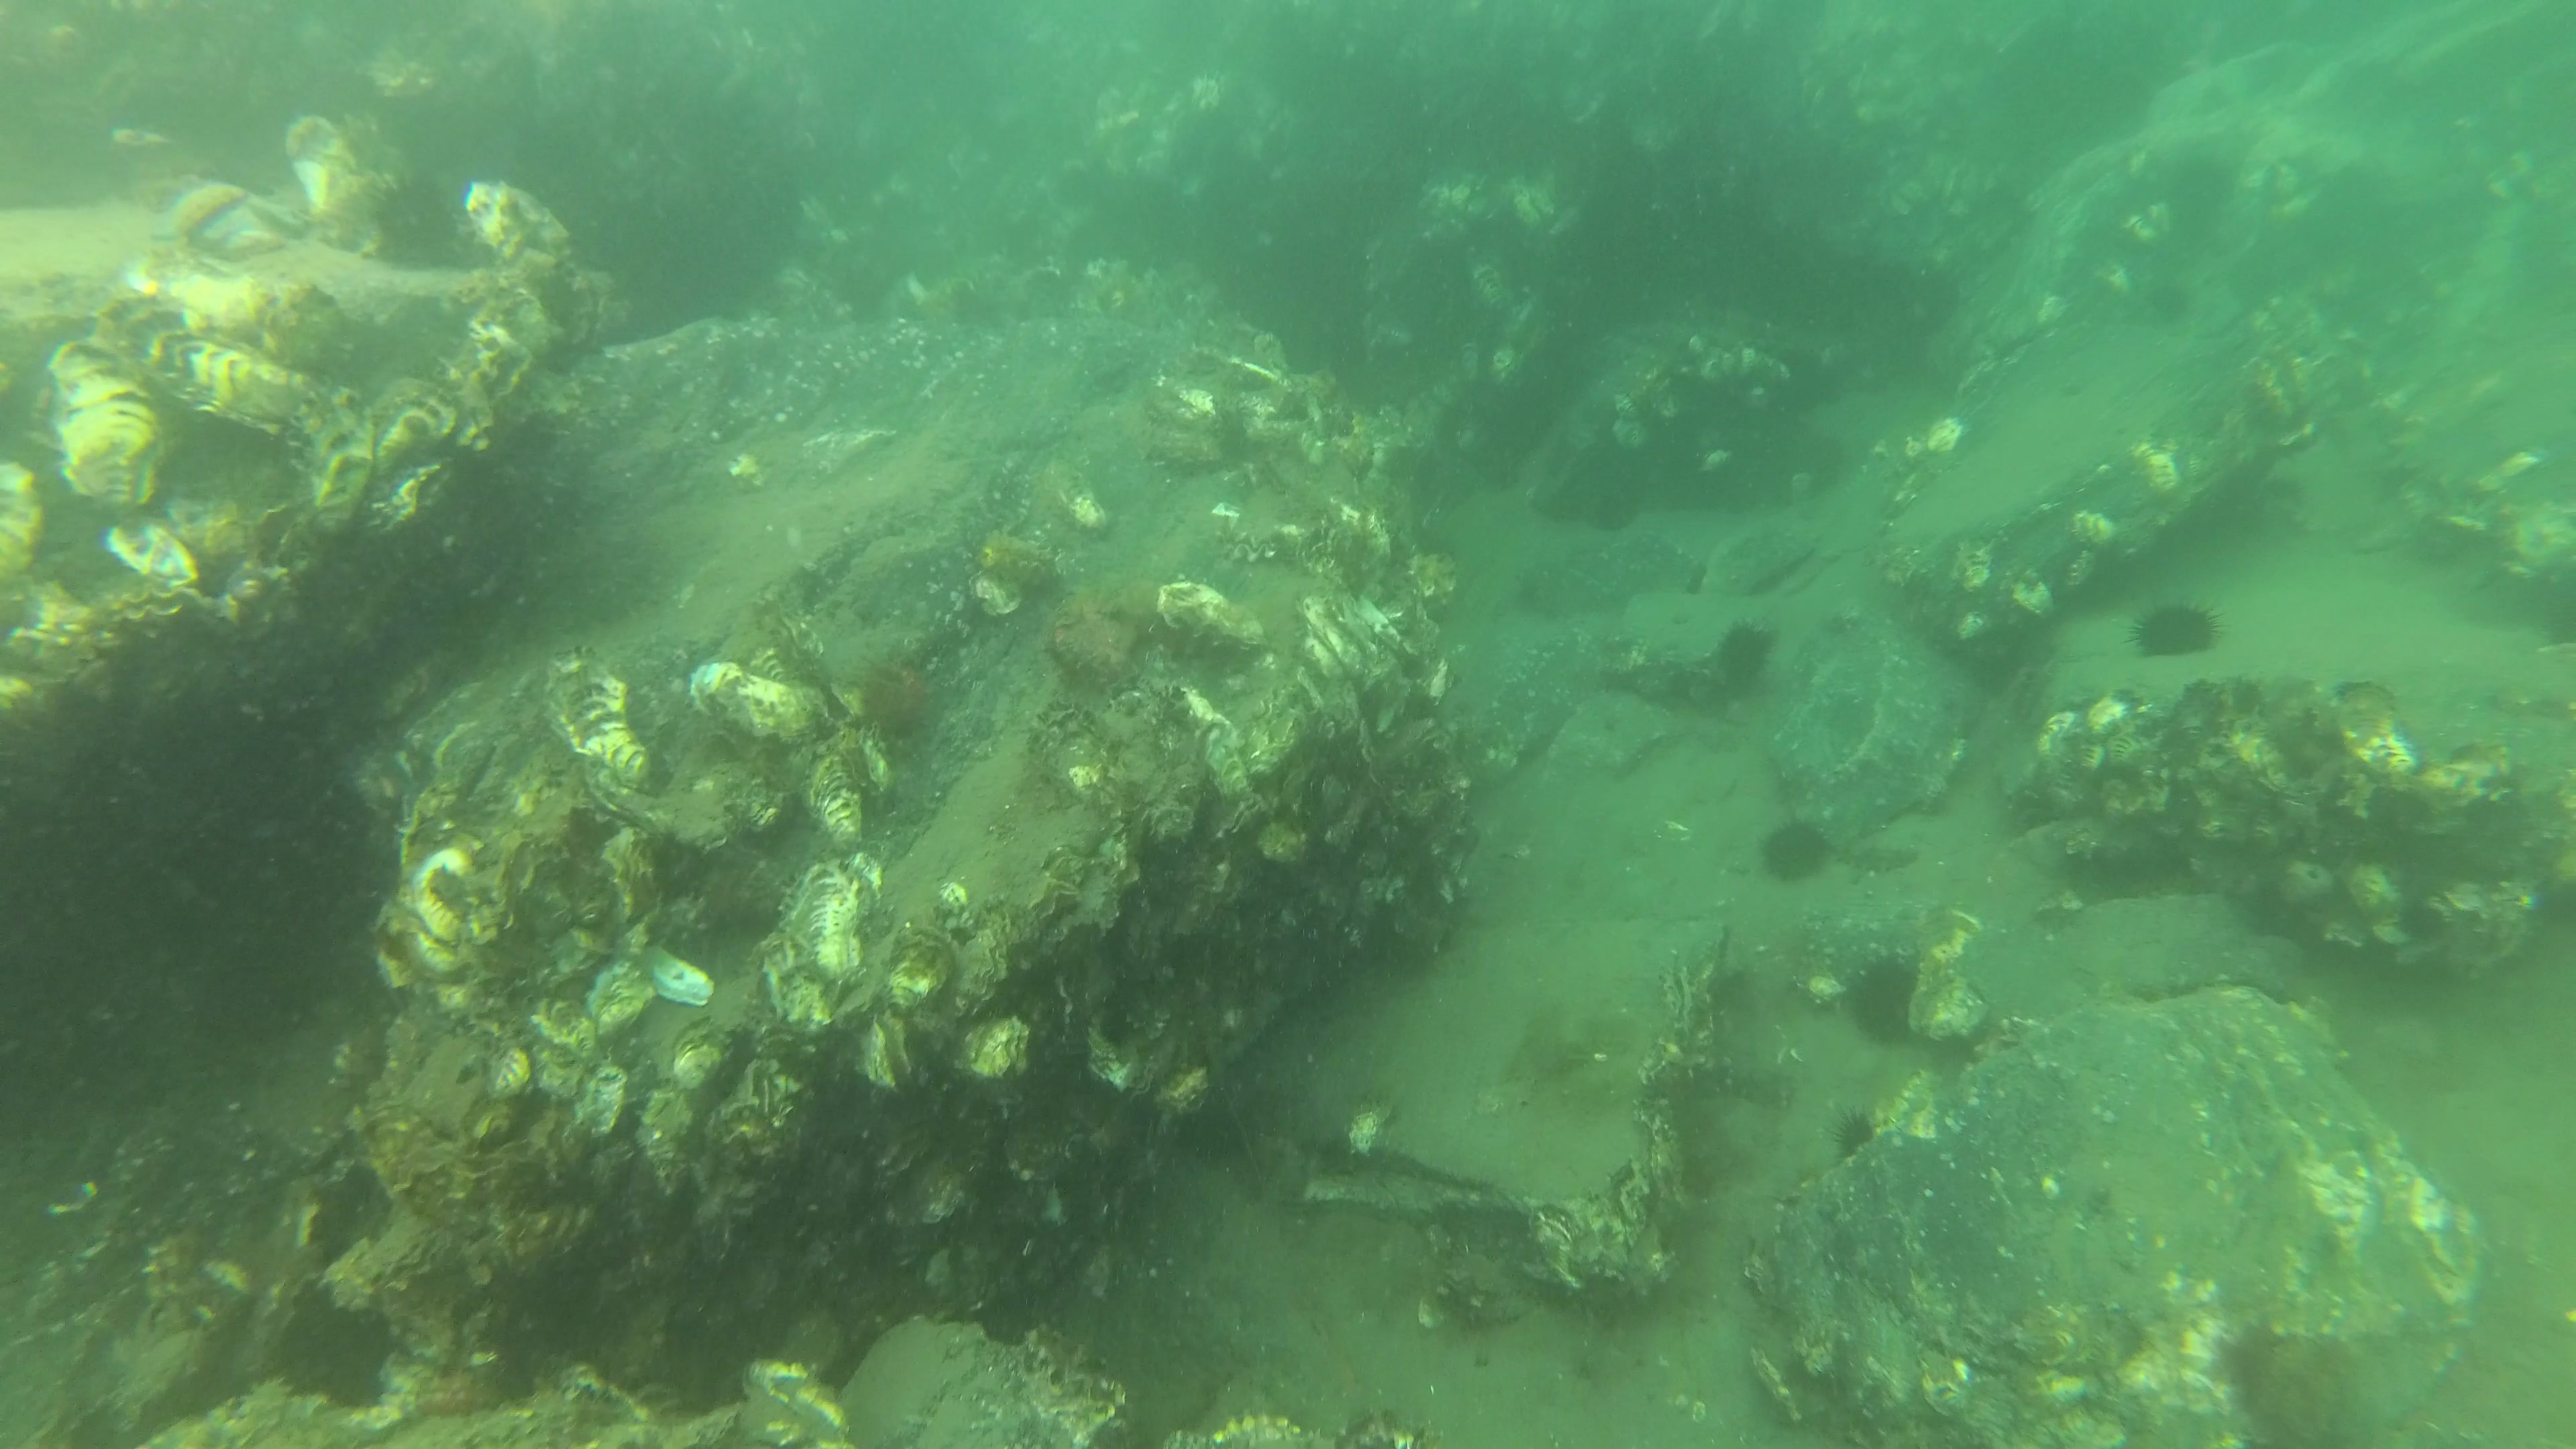echinus: (375, 172, 460, 258), (1849, 959, 1914, 1035), (1760, 821, 1828, 888), (2139, 602, 2219, 656), (1718, 619, 1778, 686), (1835, 1116, 1879, 1155)
